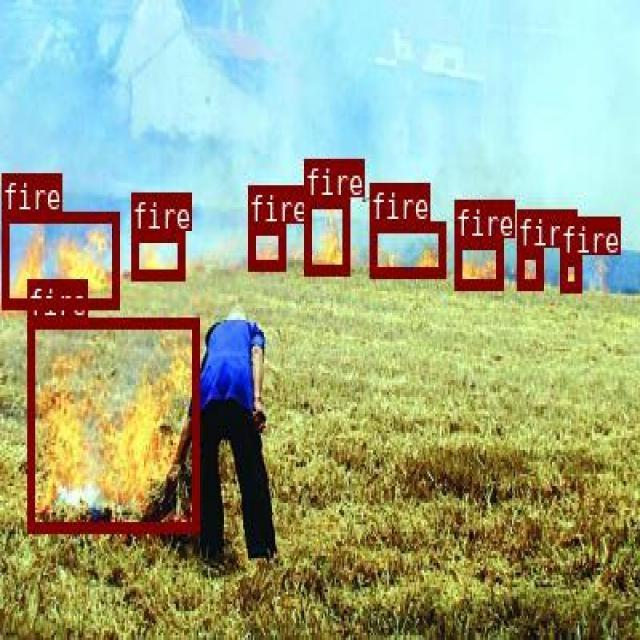fire: (26, 317, 198, 532), (0, 211, 117, 308), (370, 220, 444, 275), (303, 197, 349, 272), (130, 230, 183, 277), (454, 238, 501, 287), (248, 224, 283, 269), (516, 246, 541, 288), (559, 254, 580, 290)
